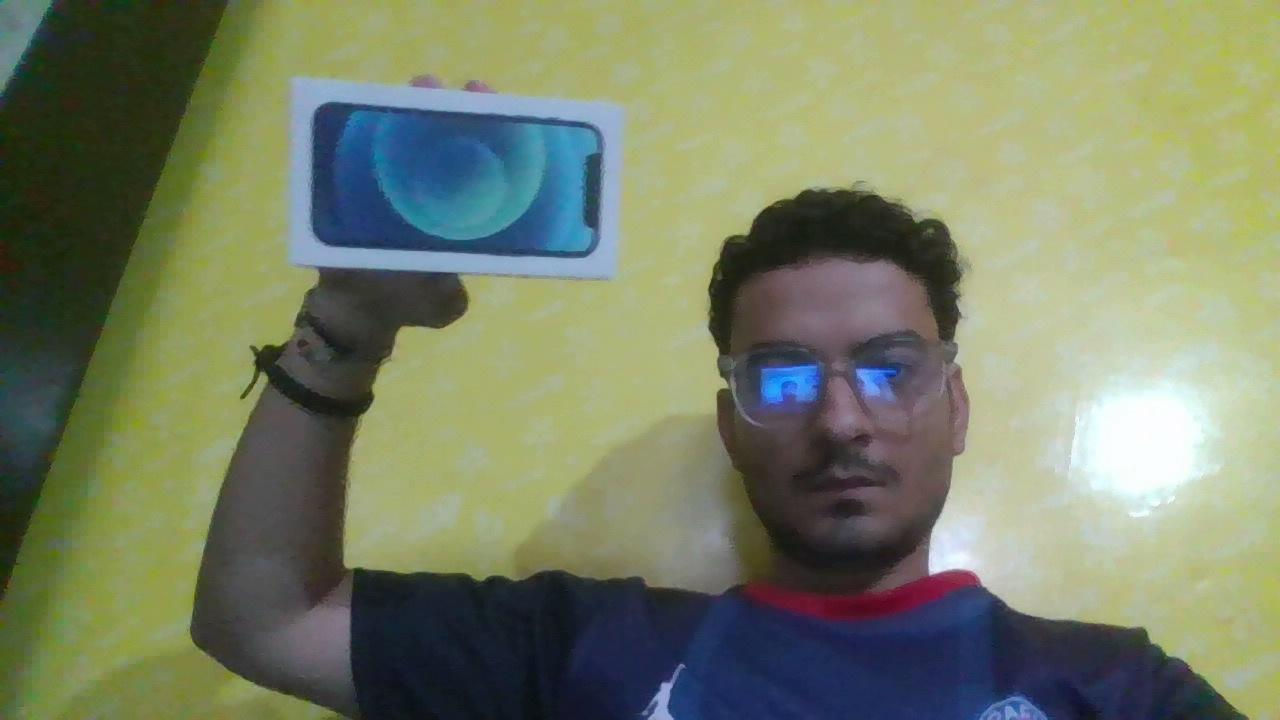Phone: (264, 66, 633, 296)
